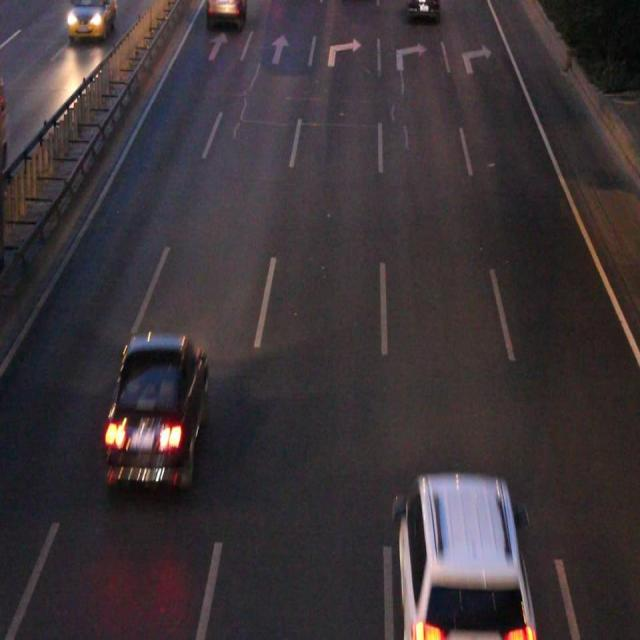car: (397, 477, 530, 640), (110, 337, 205, 482), (207, 1, 242, 25), (406, 1, 438, 20)
